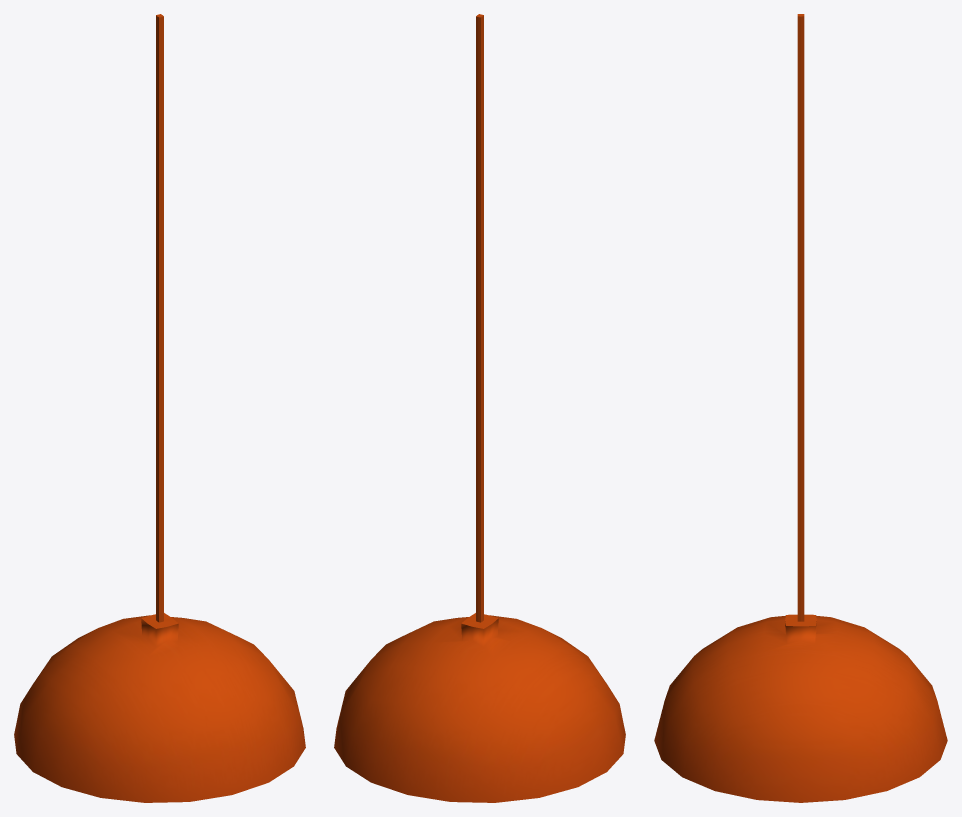
File: hanginglight02.fbx
3 renders of one model, left to right at view 1: azimuth 30°, elevation 25°; view 2: azimuth 150°, elevation 25°; view 3: azimuth 270°, elevation 25°, orthographic.
Parts seen in each view (by area): view 1: hanginglight02; view 2: hanginglight02; view 3: hanginglight02.
Part boxes in pixels (x1,y1,x2,y2): hanginglight02: (14, 14, 305, 802); hanginglight02: (334, 14, 625, 802); hanginglight02: (654, 14, 947, 802).
Size of the model in its own units: 1.83 by 5.04 by 1.83.
